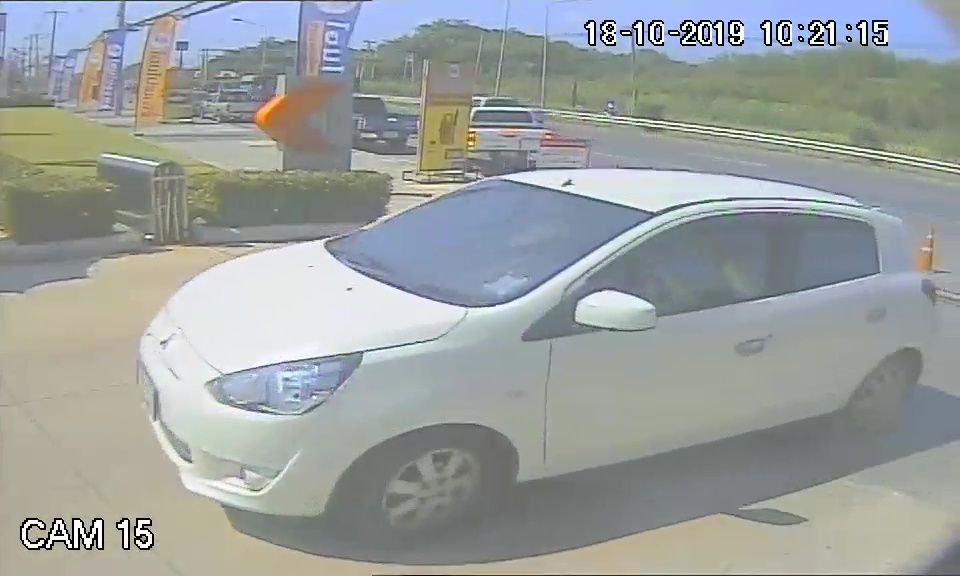sedan: (130, 164, 937, 521)
